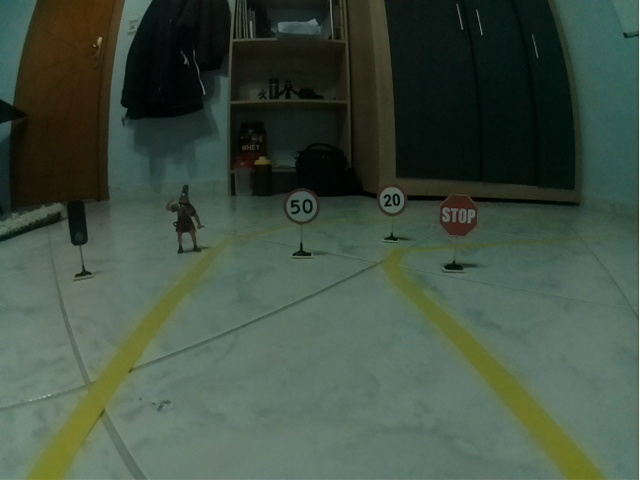Green Traffic Light: (67, 200, 89, 246)
Person: (165, 184, 206, 254)
Speed Limit 20: (377, 182, 409, 217)
Speed Limit 50: (284, 188, 320, 225)
Stop: (438, 193, 479, 237)
